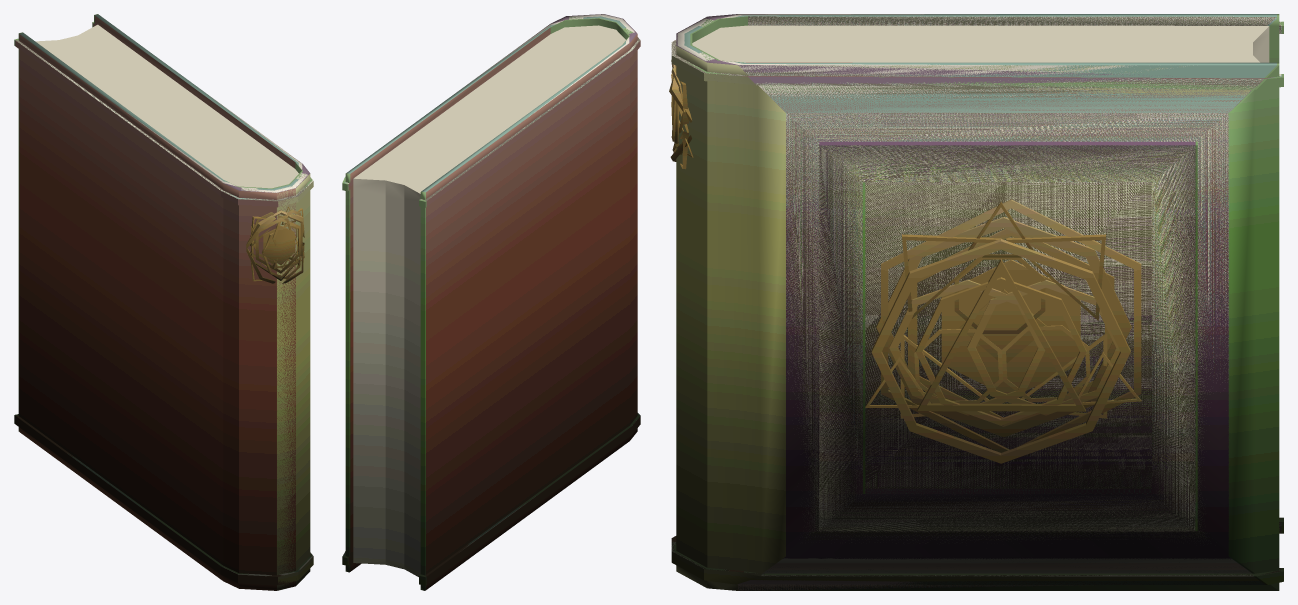
File: SM_Books.fbx
3 renders of one model, left to right at view 1: azimuth 30°, elevation 25°; view 2: azimuth 150°, elevation 25°; view 3: azimuth 270°, elevation 25°, orthographic. The views are drawn at different scales.
Visible parts, largest first — view 1: Book4, MiscBook1, Book5, MiscBook2, Spine (×4), Book2, Book6, MiscBook3; view 2: Book4, Book6, MiscBook1, MiscBook2, Book2, MiscBook3; view 3: MiscBook1, MiscBook, Book5, MiscBook2, Front (×5), MiscBook3, Book6, MiscBook5, Book, Book2, MiscBook4, Spine (+1 smaller).
Boxes of the visible parts, bbox=[...] form: Book4: bbox=[15, 16, 304, 590]; MiscBook1: bbox=[16, 25, 311, 490]; Book5: bbox=[188, 104, 313, 590]; MiscBook2: bbox=[21, 26, 313, 576]; Spine (×4): bbox=[246, 208, 304, 283]; Book2: bbox=[15, 14, 298, 419]; Book6: bbox=[14, 14, 312, 574]; MiscBook3: bbox=[122, 93, 307, 192]; Book4: bbox=[348, 20, 640, 589]; Book6: bbox=[342, 17, 639, 590]; MiscBook1: bbox=[347, 25, 639, 557]; MiscBook2: bbox=[356, 25, 640, 549]; Book2: bbox=[343, 16, 626, 584]; MiscBook3: bbox=[345, 14, 634, 183]; MiscBook1: bbox=[671, 16, 1281, 585]; MiscBook: bbox=[676, 14, 1281, 587]; Book5: bbox=[671, 16, 1280, 590]; MiscBook2: bbox=[671, 16, 1281, 576]; Front (×5): bbox=[865, 199, 1141, 463]; MiscBook3: bbox=[677, 14, 1281, 590]; Book6: bbox=[674, 14, 1283, 590]; MiscBook5: bbox=[672, 17, 1280, 590]; Book: bbox=[749, 19, 1281, 590]; Book2: bbox=[684, 14, 1281, 575]; MiscBook4: bbox=[676, 17, 1263, 590]; Spine: bbox=[669, 67, 691, 169].
Size of the model in its own units: 6.11 by 23.8 by 25.23.
1 material, 1 textured.
